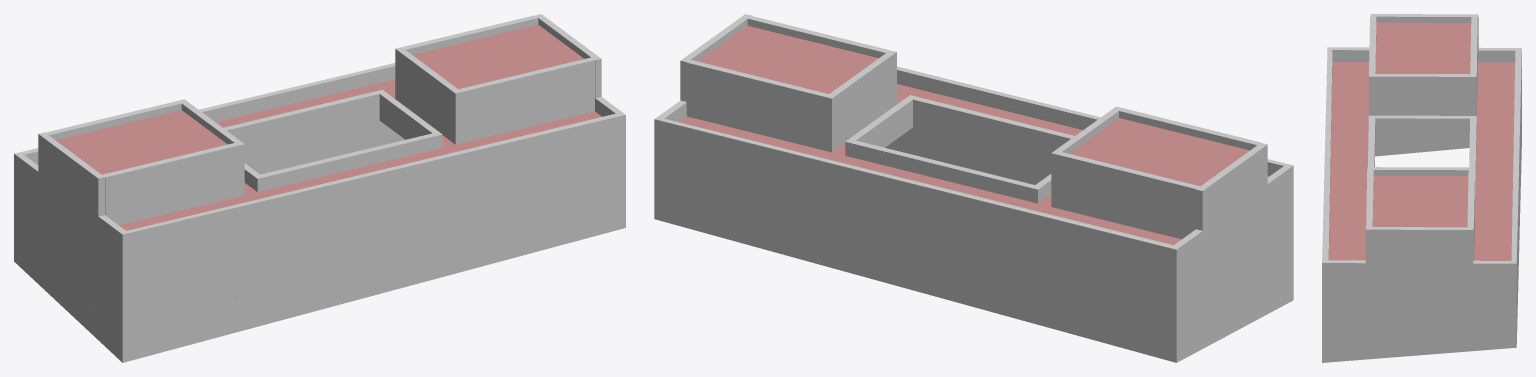
File: LOD_Block_0_81.glb
3 views of the same model, side by side, from view 1: azimuth 30°, elevation 25°; view 2: azimuth 150°, elevation 25°; view 3: azimuth 270°, elevation 25° (orthographic). The views are drawn at different scales.
Visible parts, largest first — view 1: mesh_CityEngineMaterial_1216; view 2: mesh_CityEngineMaterial_1216; view 3: mesh_CityEngineMaterial_1216.
Boxes of the visible parts, x1,y1,x2,y2 form: mesh_CityEngineMaterial_1216: [14, 14, 625, 362]; mesh_CityEngineMaterial_1216: [654, 14, 1293, 362]; mesh_CityEngineMaterial_1216: [1322, 14, 1521, 362].
Bounding box in the file's own units: 39.28 × 12.44 × 15.33.
